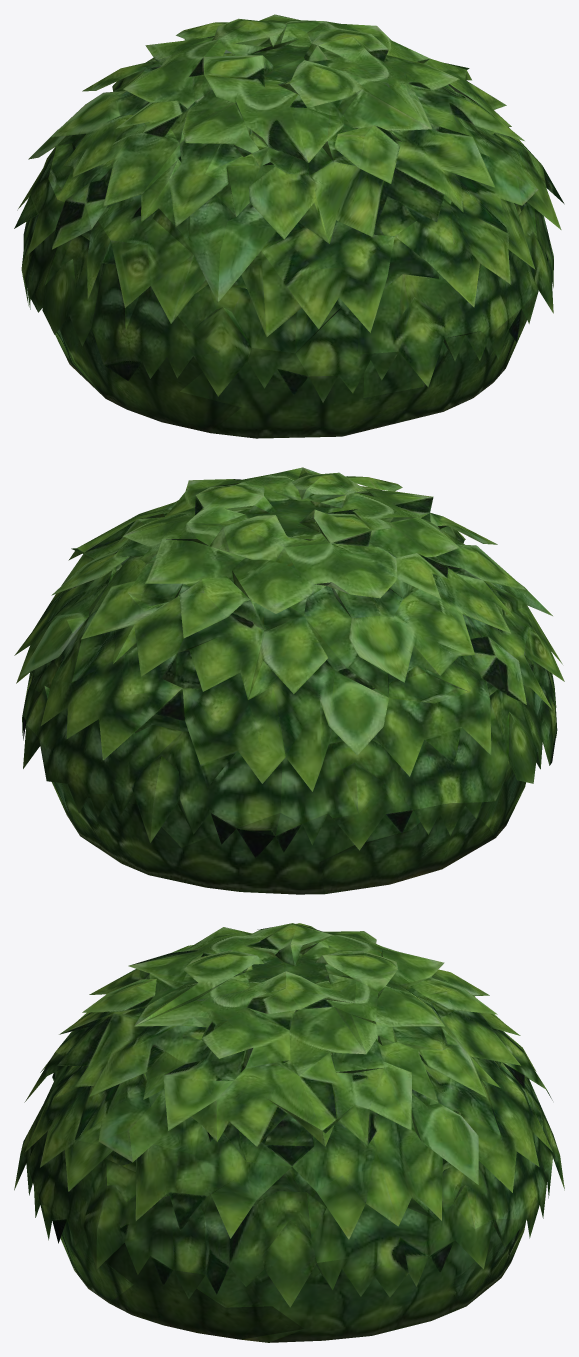
The model's file is Bush.glb.
3 views of the same model, one above another, from view 1: azimuth 30°, elevation 25°; view 2: azimuth 150°, elevation 25°; view 3: azimuth 270°, elevation 25° (orthographic).
Size of the model in its own units: 1.86 by 1.1 by 1.87.
1 material, 1 textured.
